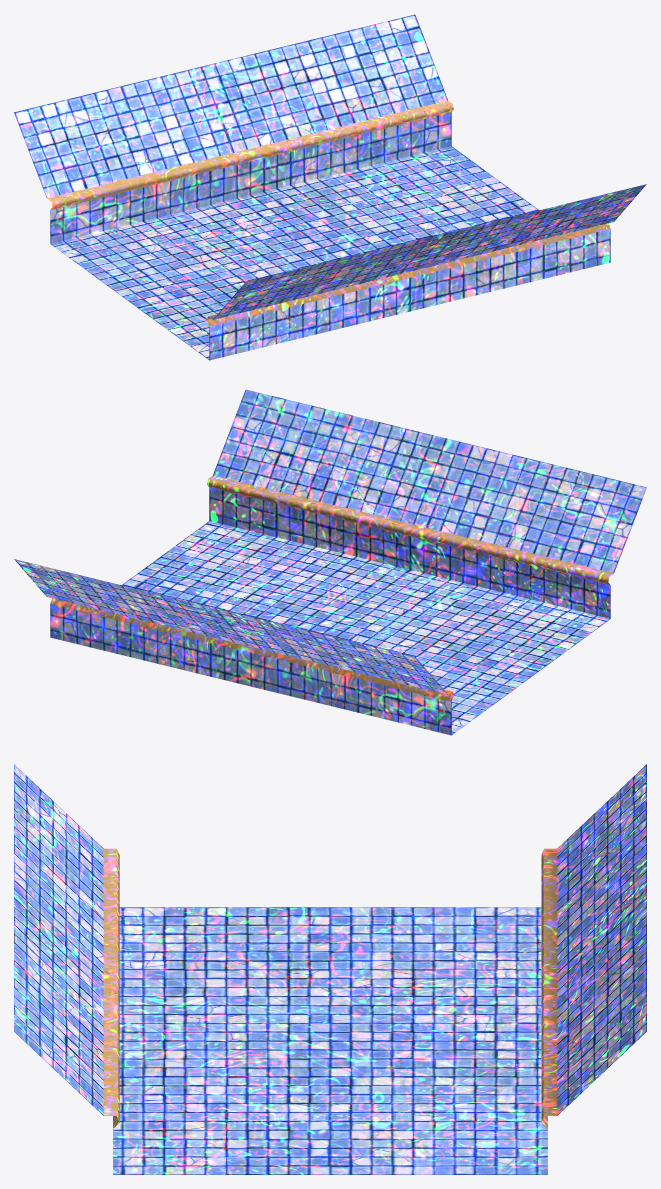
The model's file is water_2_sides_SM.fbx.
3 renders of one model, top to bottom at view 1: azimuth 30°, elevation 25°; view 2: azimuth 150°, elevation 25°; view 3: azimuth 270°, elevation 25°, orthographic. The views are drawn at different scales.
Parts seen in each view (by area): view 1: water_2_sides_SM_LOD0; view 2: water_2_sides_SM_LOD0; view 3: water_2_sides_SM_LOD0.
Boxes of the visible parts, x1,y1,x2,y2 form: water_2_sides_SM_LOD0: [14, 14, 646, 360]; water_2_sides_SM_LOD0: [14, 389, 646, 735]; water_2_sides_SM_LOD0: [14, 764, 646, 1174].
Bounding box in the file's own units: 1024 × 1024 × 256.
Materials: 3 (3 with a texture image).
